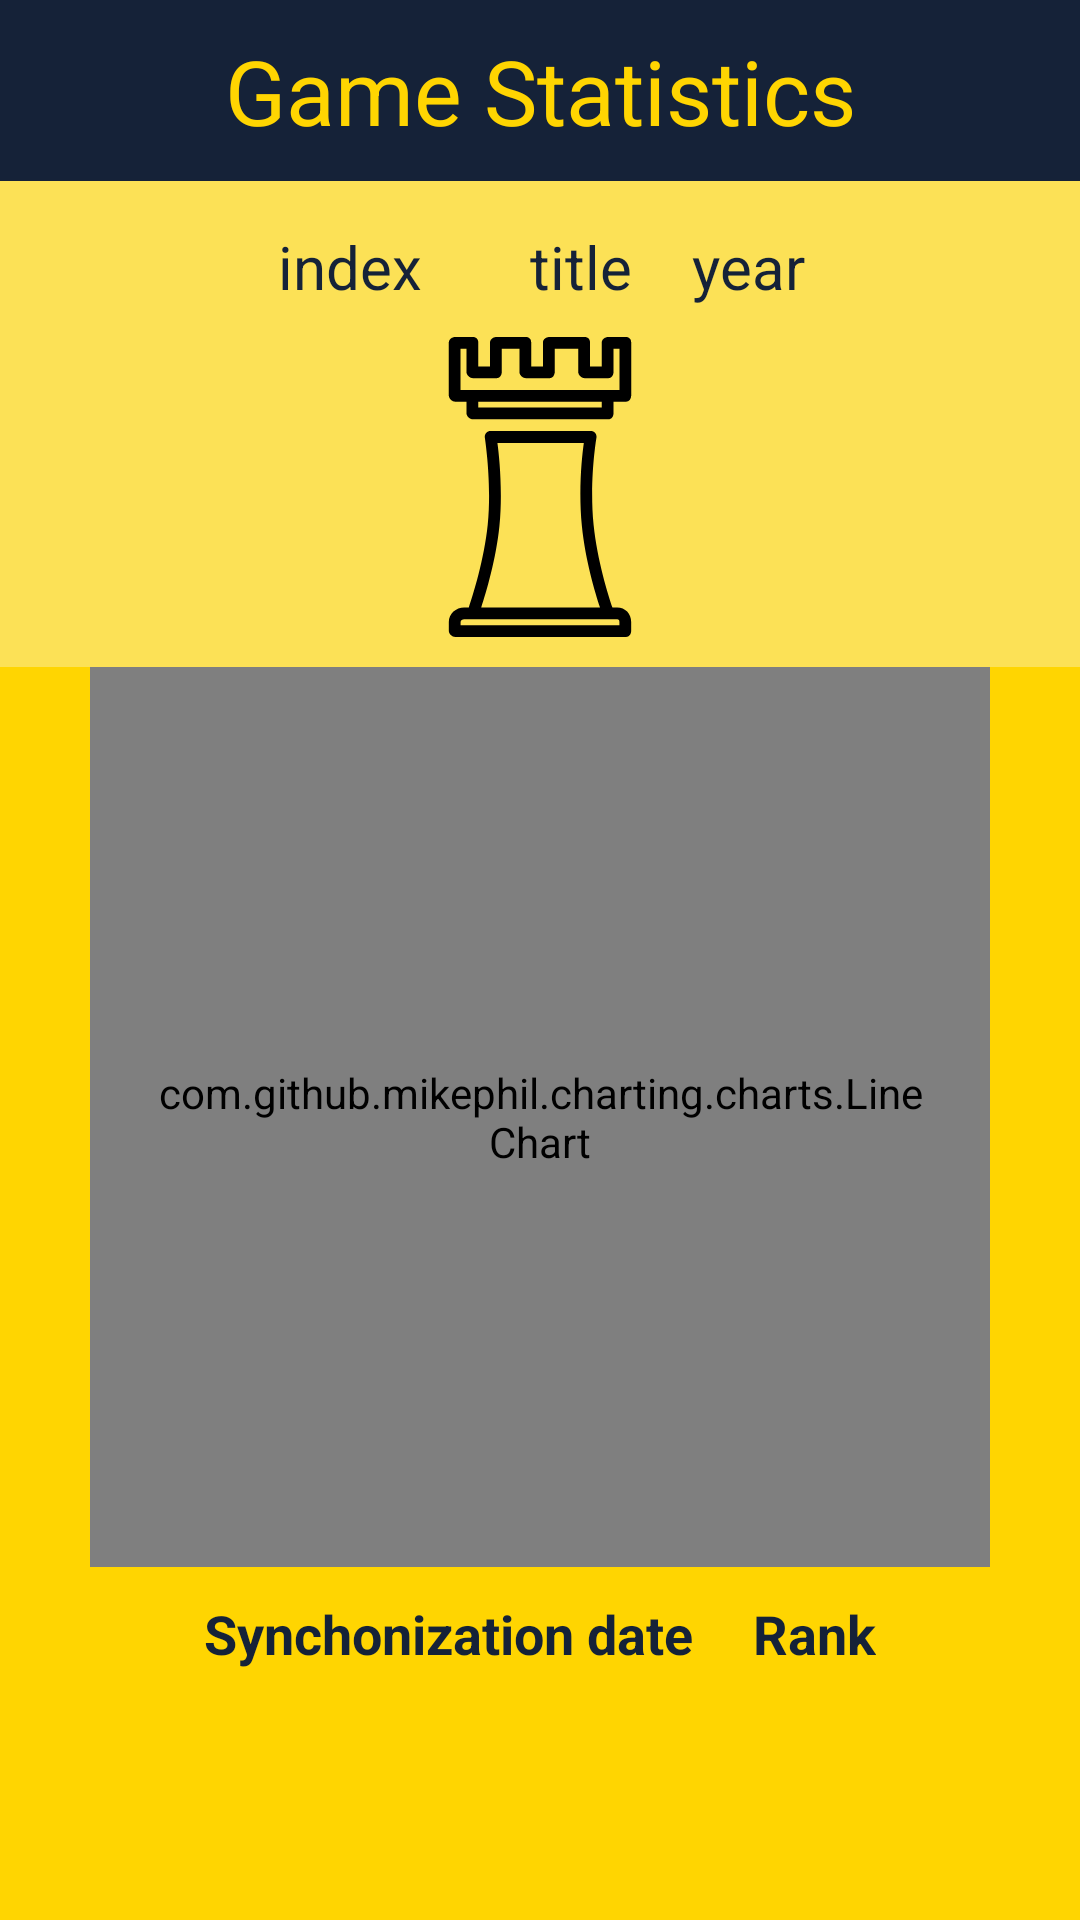

Locate icon controls on the screen. Image size 1080 × 1920, boxes as (x1, y1, x2, y2).
rook chess: (448, 337, 632, 637)
